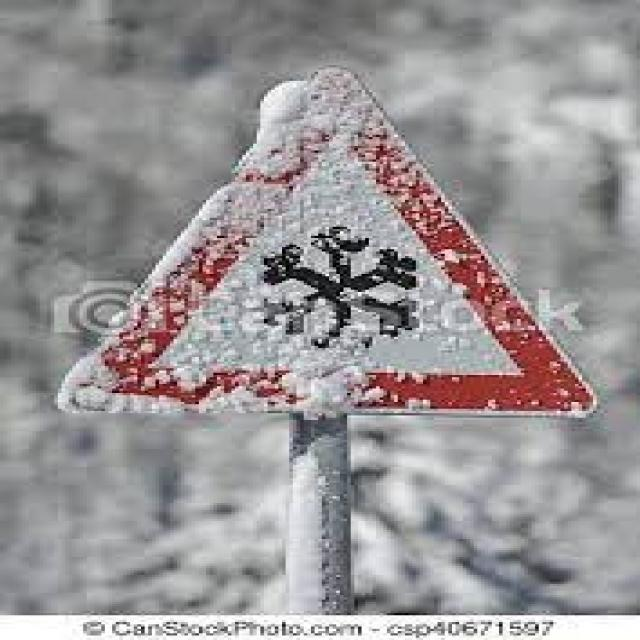snow_warning: (52, 50, 609, 428)
